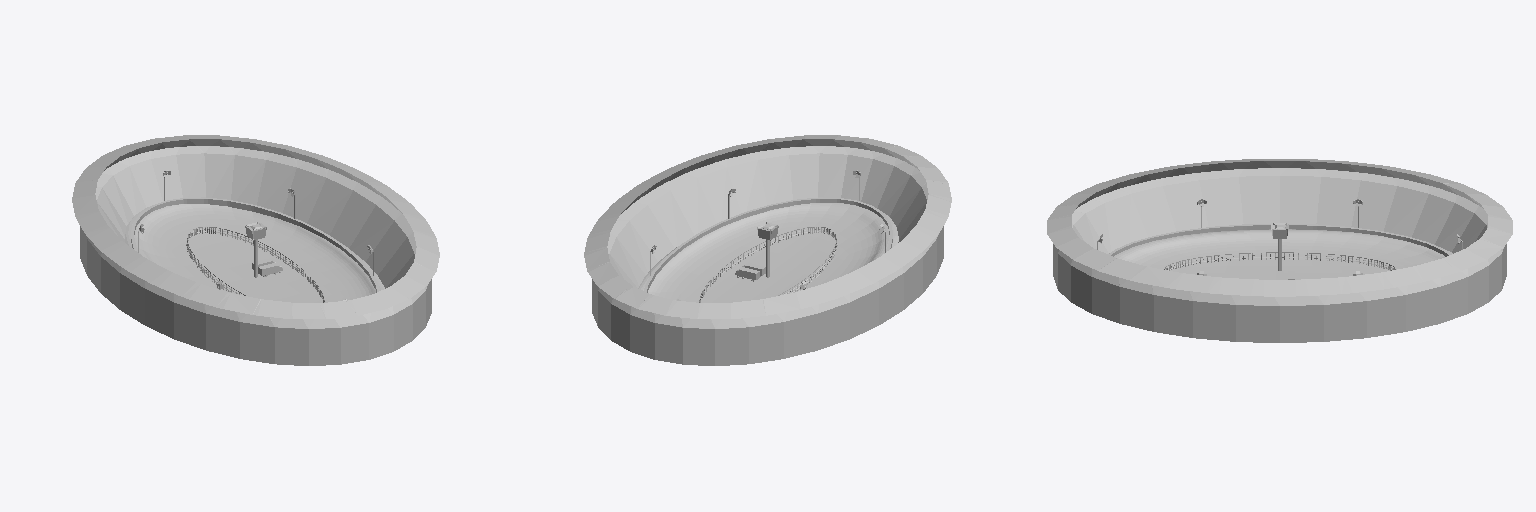
Rendered from Stade_et_pisteV5.obj.
The picture shows the model from 3 angles: view 1: azimuth 30°, elevation 25°; view 2: azimuth 150°, elevation 25°; view 3: azimuth 270°, elevation 25°; orthographic projection.
Visible parts, largest first — view 1: Stade, Piste, Barriere; view 2: Stade, Piste, Barriere; view 3: Stade, Piste, Barriere.
Boxes of the visible parts, <box> form: Stade: <box>72,135,439,365</box>; Piste: <box>125,204,384,302</box>; Barriere: <box>186,227,324,302</box>; Stade: <box>584,135,951,365</box>; Piste: <box>638,203,898,302</box>; Barriere: <box>699,227,837,302</box>; Stade: <box>1047,159,1512,342</box>; Piste: <box>1109,229,1452,279</box>; Barriere: <box>1164,252,1395,270</box>.
Bounding box in the file's own units: 22.35 × 5.4 × 31.9.